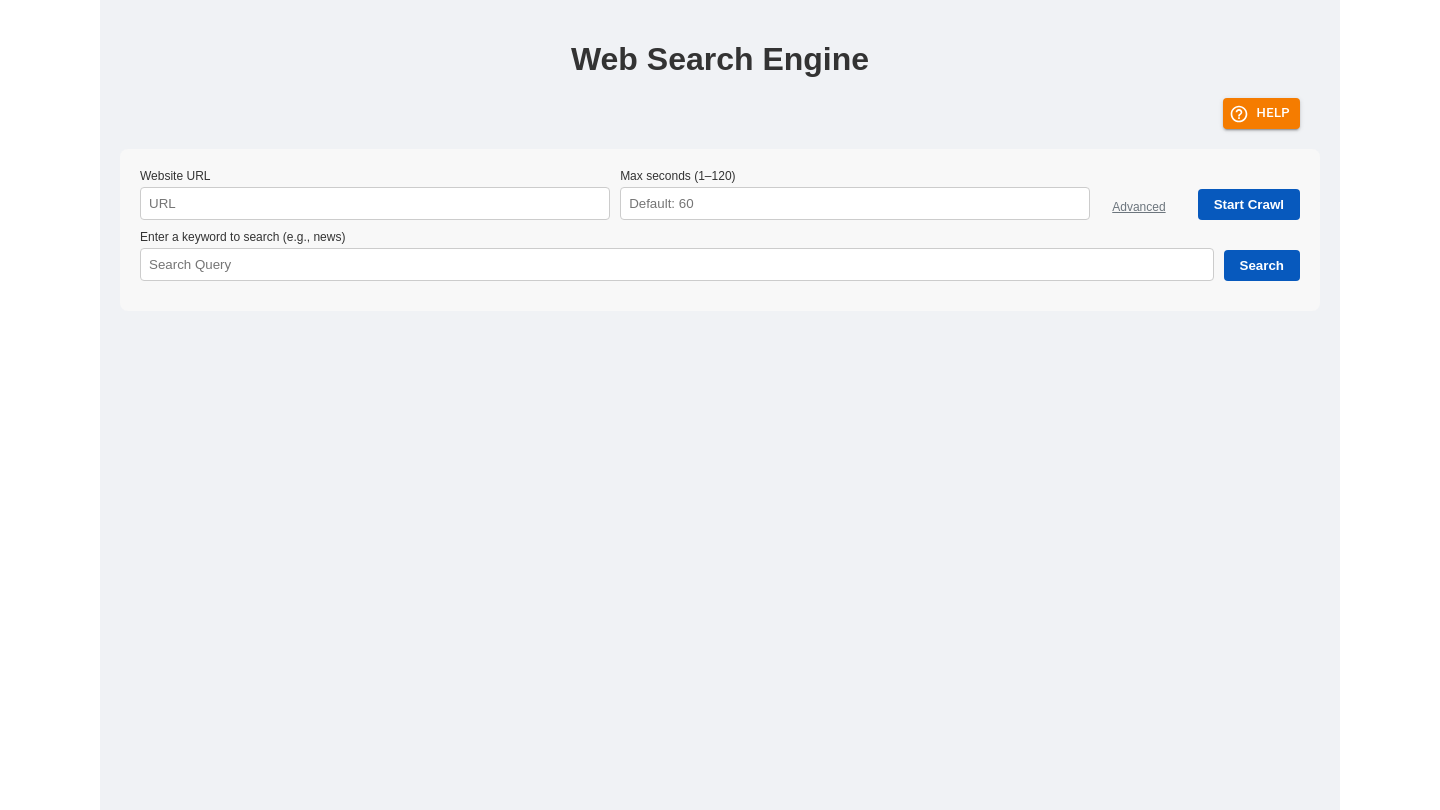
Test: shows a search failure without showing an empty result
Type "Andorra" into the field labelled "Enter a keyword to search (e.g., news)" at (677, 265), box [140,248,1214,281]
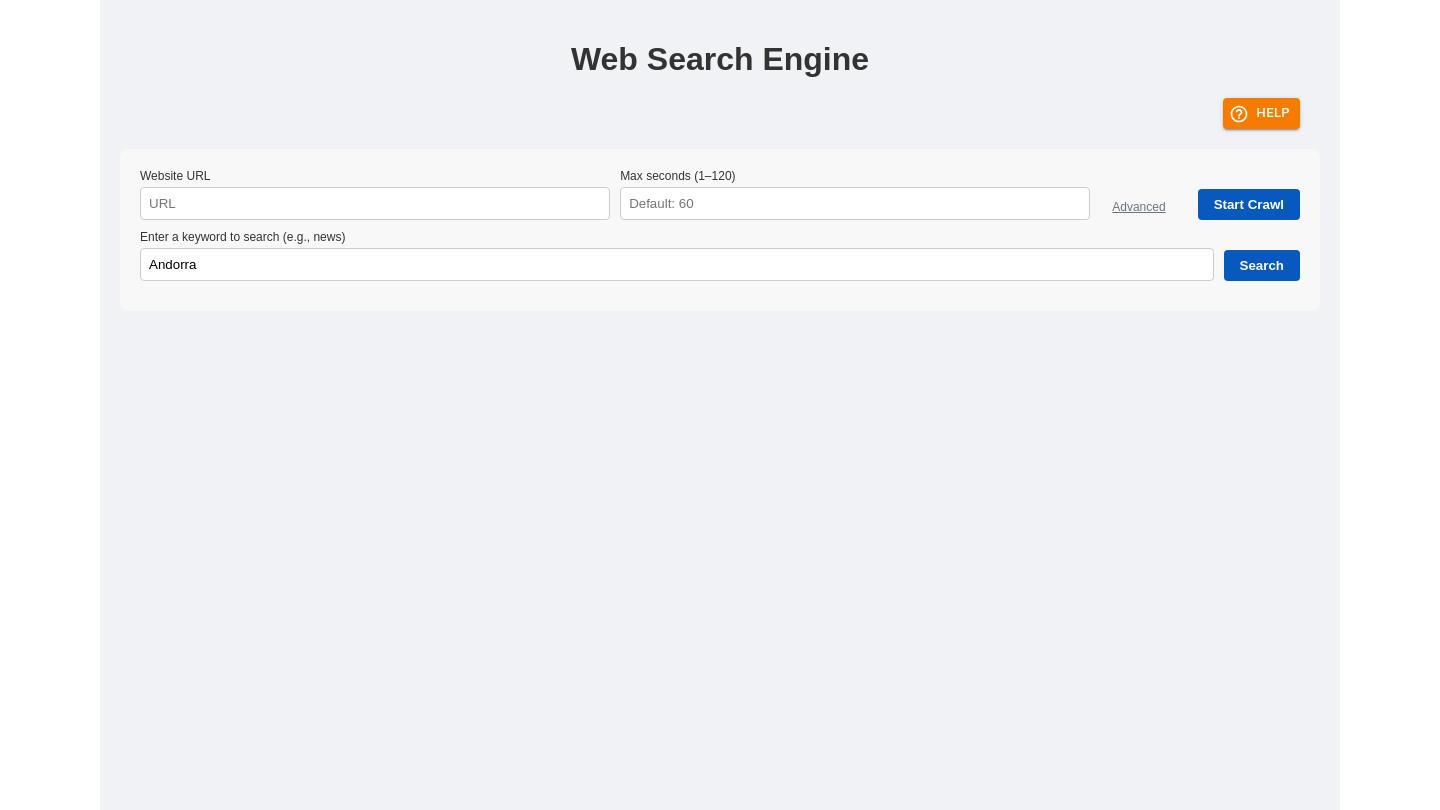
Click the button "Search" at (1262, 266), box [1224,250,1300,281]
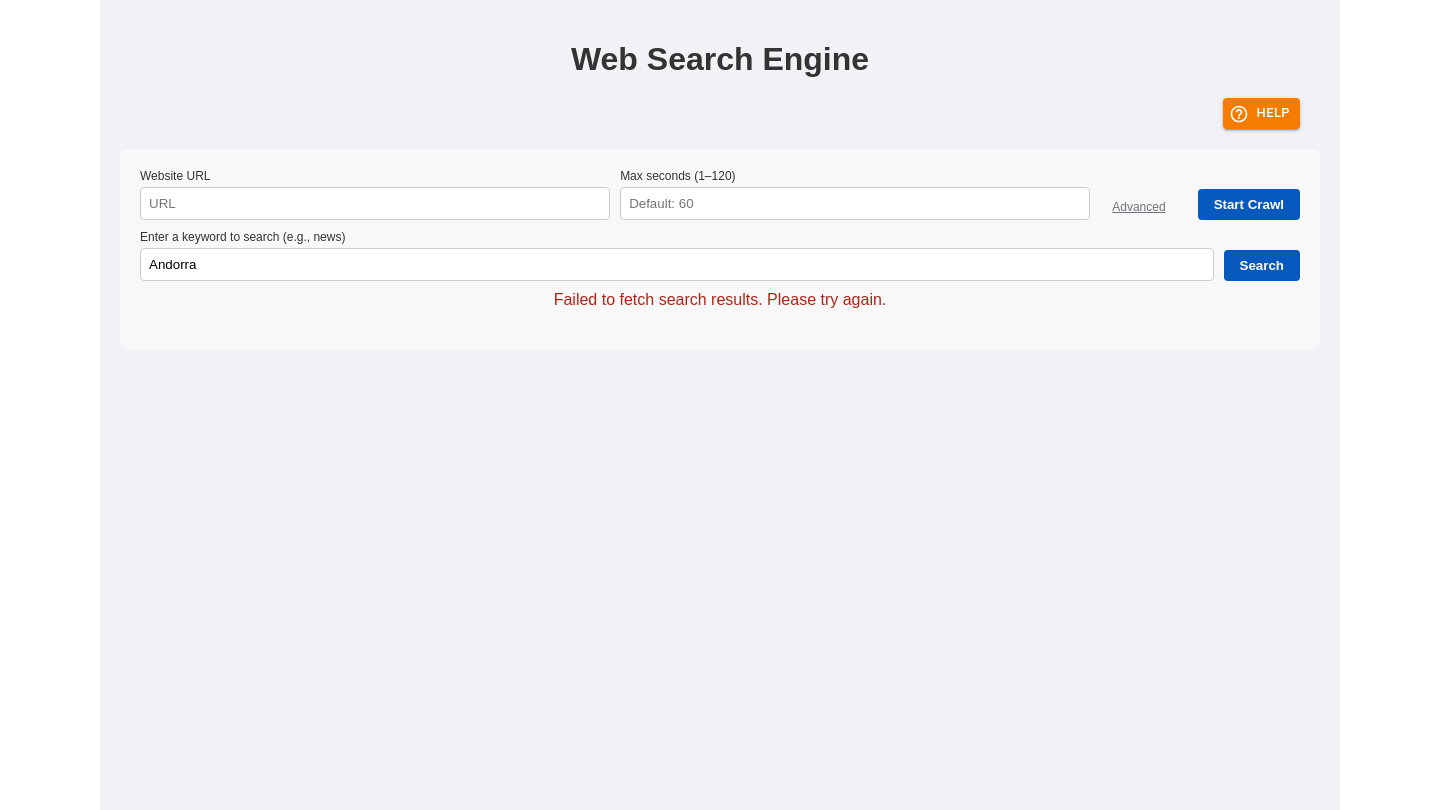
Now the message shows "Failed to fetch search results", box [554,291,886,308]
